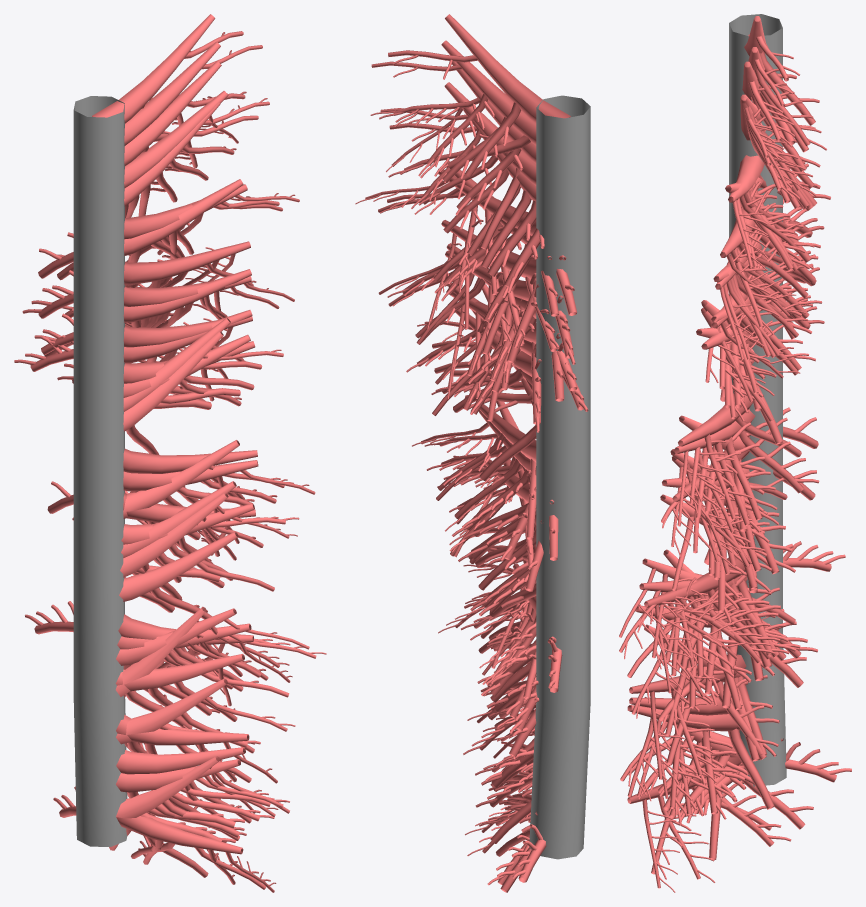
The model's file is hedge.obj.
3 renders of one model, left to right at view 1: azimuth 30°, elevation 25°; view 2: azimuth 150°, elevation 25°; view 3: azimuth 270°, elevation 25°, orthographic. The views are drawn at different scales.
Parts seen in each view (by area): view 1: bgroup1, bgroup0, bgroup2, bgroup3; view 2: bgroup2, bgroup0, bgroup3, bgroup1; view 3: bgroup2, bgroup3, bgroup1, bgroup0.
Boxes of the visible parts, x1,y1,x2,y2 form: bgroup1: (92, 14, 258, 854); bgroup0: (73, 96, 127, 846); bgroup2: (30, 31, 316, 892); bgroup3: (14, 32, 326, 885); bgroup2: (365, 50, 584, 892); bgroup0: (529, 95, 590, 859); bgroup3: (355, 55, 588, 885); bgroup1: (438, 14, 570, 613); bgroup2: (619, 35, 836, 888); bgroup3: (624, 52, 851, 892); bgroup1: (627, 16, 768, 803); bgroup0: (729, 14, 786, 786).
Bounding box in the file's own units: 10.97 × 34.76 × 8.47.
